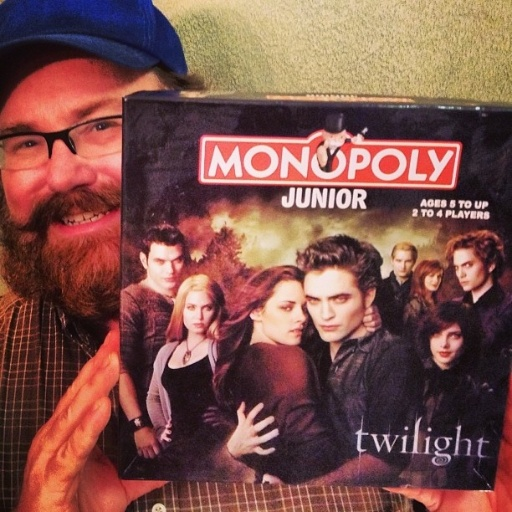hand: (20, 321, 133, 505), (225, 399, 280, 458), (132, 425, 160, 459), (201, 402, 235, 426), (361, 299, 382, 333), (153, 420, 173, 442), (261, 471, 290, 485)
